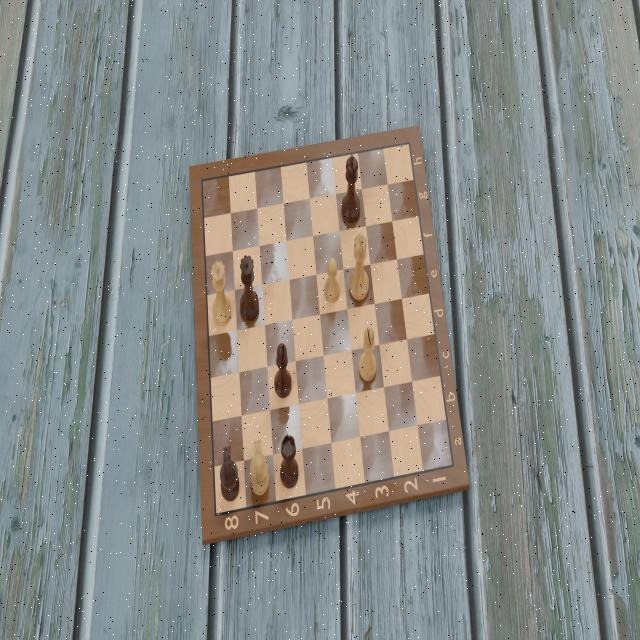black-bishop: (273, 342, 292, 398)
black-king: (341, 152, 361, 224)
black-knight: (220, 443, 240, 501)
black-queen: (240, 254, 260, 322)
black-rook: (279, 433, 299, 491)
white-bishop: (358, 325, 377, 383)
white-king: (349, 231, 371, 301)
white-knight: (249, 439, 270, 497)
white-pawn: (324, 256, 340, 304)
white-queen: (211, 258, 231, 327)
